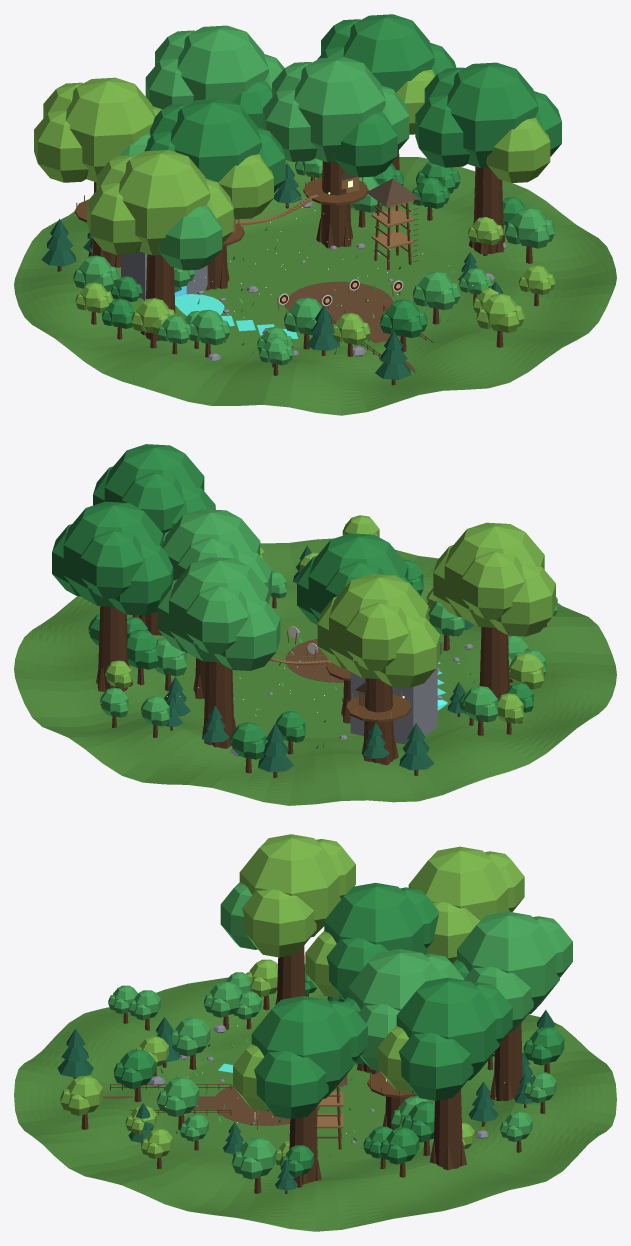
Rendered from floresta-arqueiro.glb.
The picture shows the model from 3 angles, top to bottom: view 1: azimuth 30°, elevation 25°; view 2: azimuth 150°, elevation 25°; view 3: azimuth 270°, elevation 25°; orthographic projection.
Parts seen in each view (by area): view 1: Gigantes, Terreno, Arvores, Cascata, Torre, Casas, Pedras; view 2: Gigantes, Terreno, Arvores, Cascata, Casas; view 3: Gigantes, Terreno, Arvores, Torre, Casas.
Part boxes in pixels (<box>): Gigantes: <box>34,14,561,341</box>; Terreno: <box>14,157,616,415</box>; Arvores: <box>41,158,555,385</box>; Cascata: <box>121,251,297,338</box>; Torre: <box>366,178,419,269</box>; Casas: <box>74,172,368,246</box>; Pedras: <box>207,199,506,360</box>; Gigantes: <box>52,444,555,765</box>; Terreno: <box>14,538,616,805</box>; Arvores: <box>88,515,557,777</box>; Cascata: <box>350,642,447,744</box>; Casas: <box>185,651,411,722</box>; Gigantes: <box>220,834,572,1184</box>; Terreno: <box>14,964,616,1231</box>; Arvores: <box>57,959,564,1193</box>; Torre: <box>316,1074,347,1149</box>; Casas: <box>367,1071,416,1097</box>.
Bounding box in the file's own units: 50 × 17.55 × 50.
